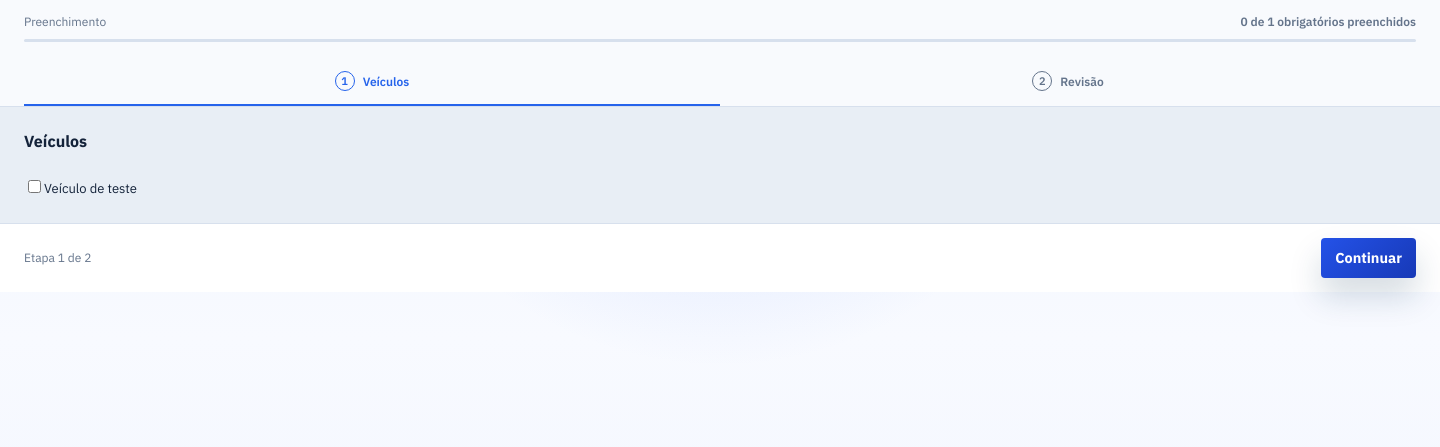
Scenario: GuidedForm › includes existing non-native requirements and takes the user back to their stage
Click the button "Continuar". click: (1369, 258)
box: [1321,238,1416,278]
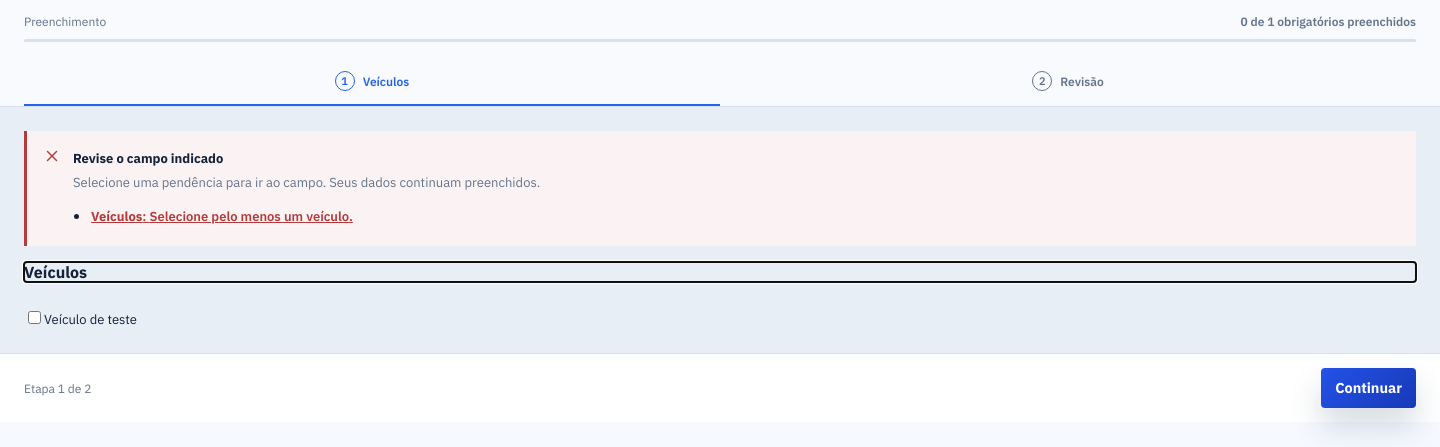
Expected: the message shows "Selecione pelo menos um veículo", [91,202,353,230]
